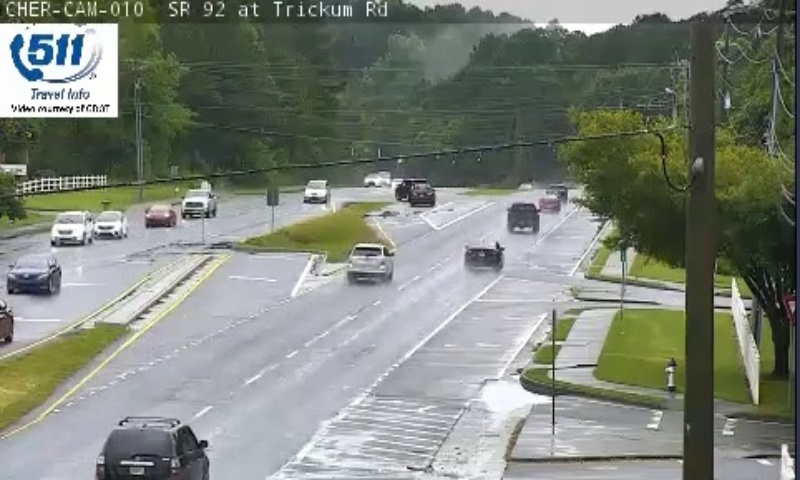car: (96, 420, 210, 480), (346, 243, 391, 277), (464, 240, 502, 267), (507, 202, 537, 227)
